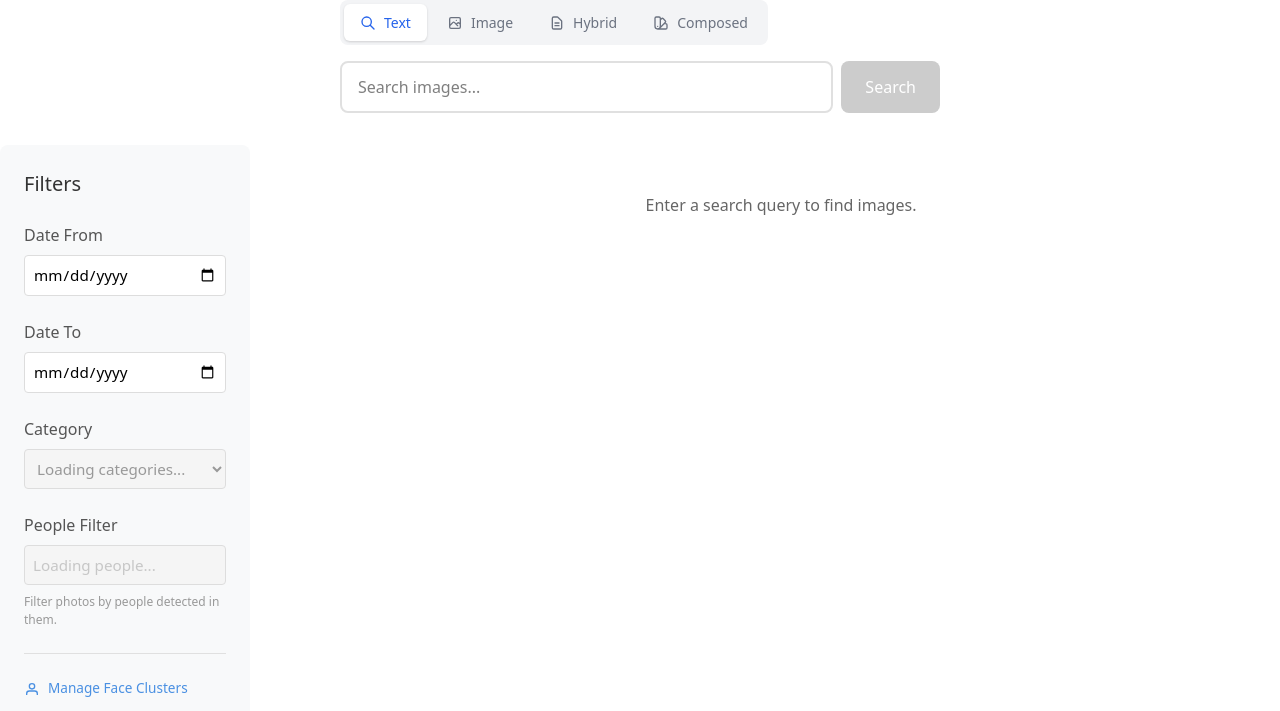
Dashboard Page › shows loading state during search
This screenshot has width=1280, height=711.
In the field named "search query": (587, 87) top-left (340, 61), bottom-right (833, 113), type "beach"
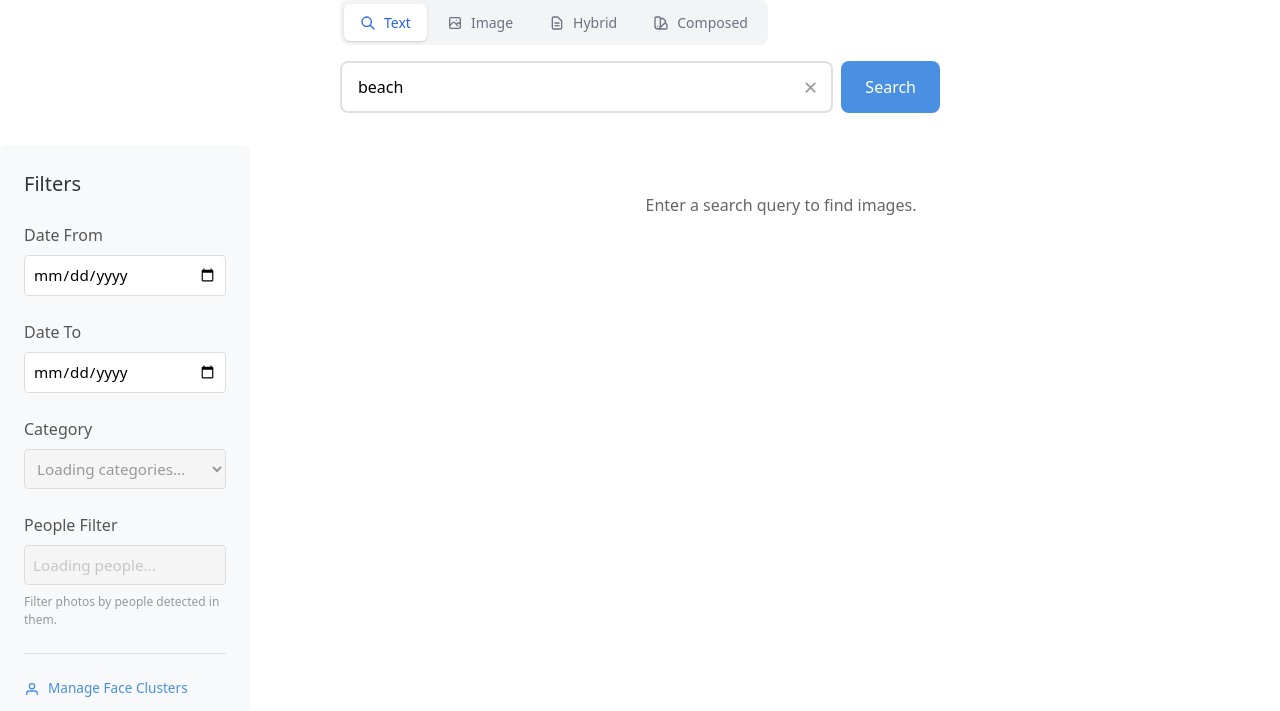
Submit the form named "search query", box top-left (340, 61), bottom-right (940, 113)
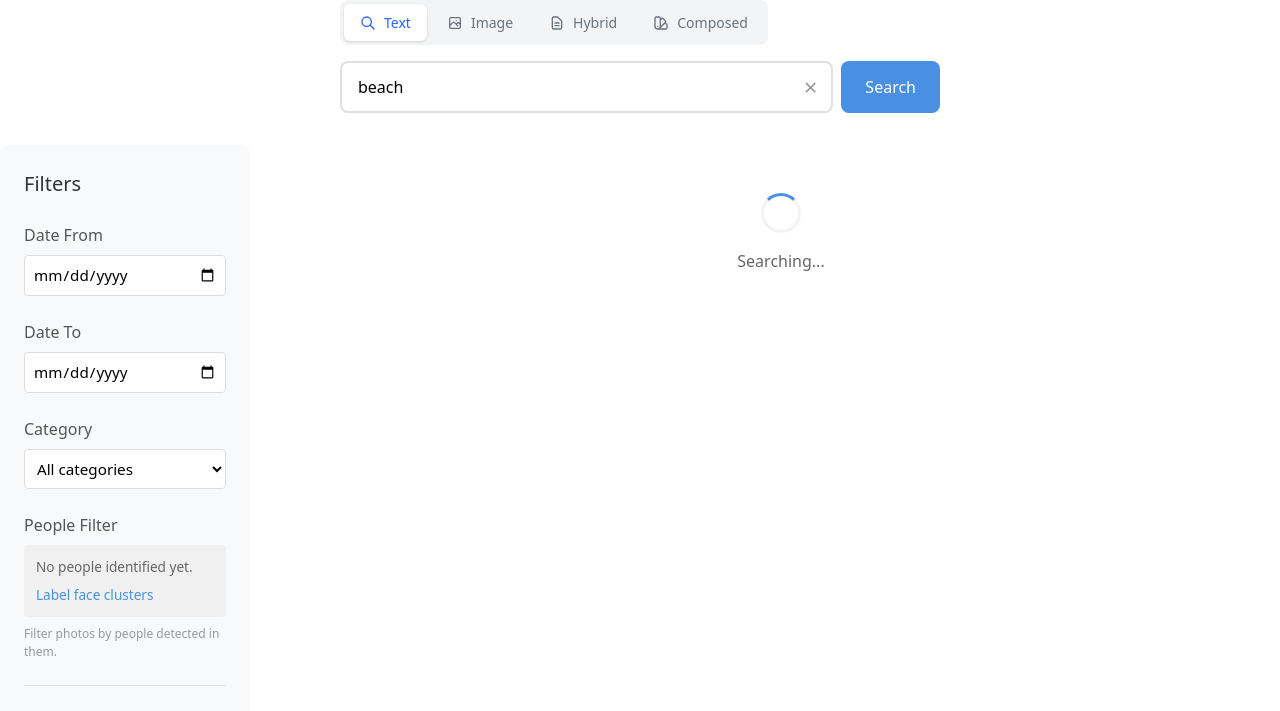
Now the text "Searching..." is shown, box top-left (737, 250), bottom-right (825, 272)
